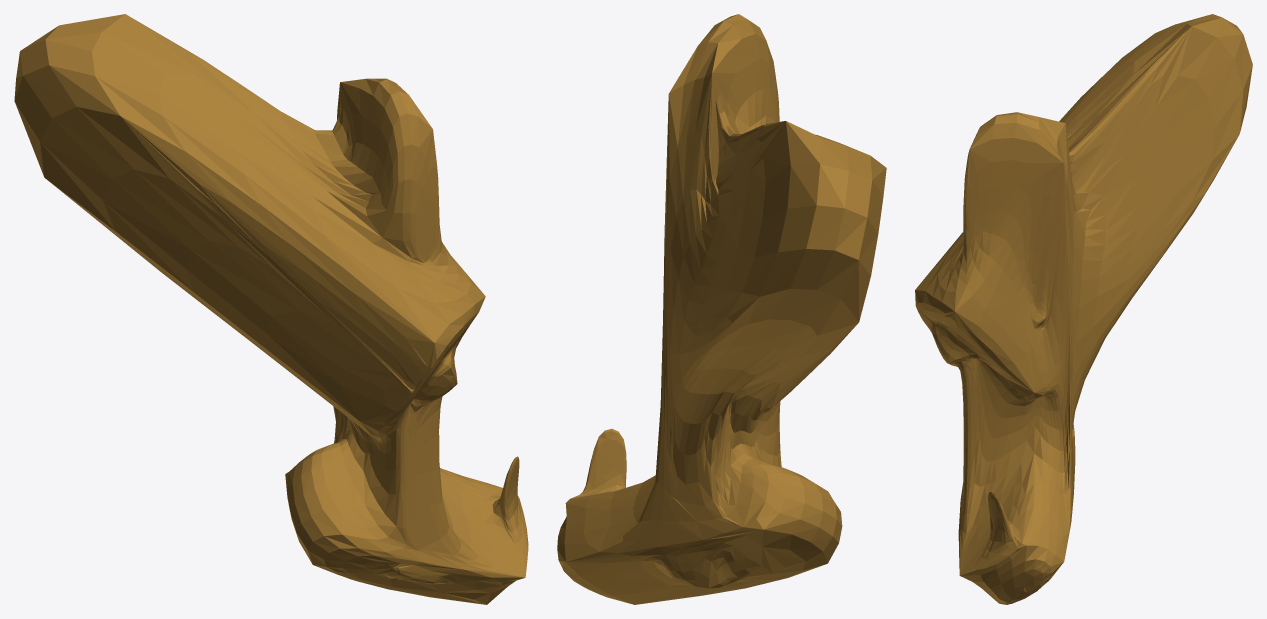
3 renders of one model, left to right at view 1: azimuth 30°, elevation 25°; view 2: azimuth 150°, elevation 25°; view 3: azimuth 270°, elevation 25°, orthographic. The views are drawn at different scales.
Parts seen in each view (by area): view 1: 837_Cube.3377; view 2: 837_Cube.3377; view 3: 837_Cube.3377.
Part boxes in pixels (x1=…): 837_Cube.3377: x1=14, y1=14, x2=528, y2=604; 837_Cube.3377: x1=557, y1=14, x2=886, y2=604; 837_Cube.3377: x1=915, y1=14, x2=1252, y2=604.
Bounding box in the file's own units: 9.5 × 13.61 × 8.75.
